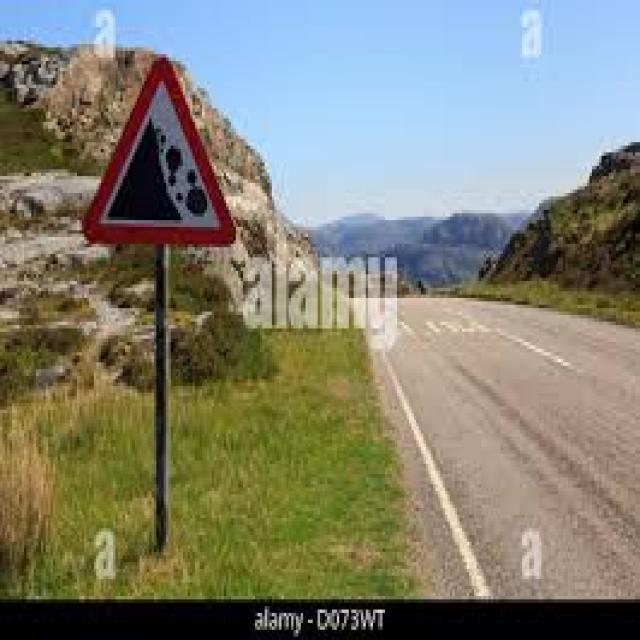falling rocks: (82, 50, 238, 253)
